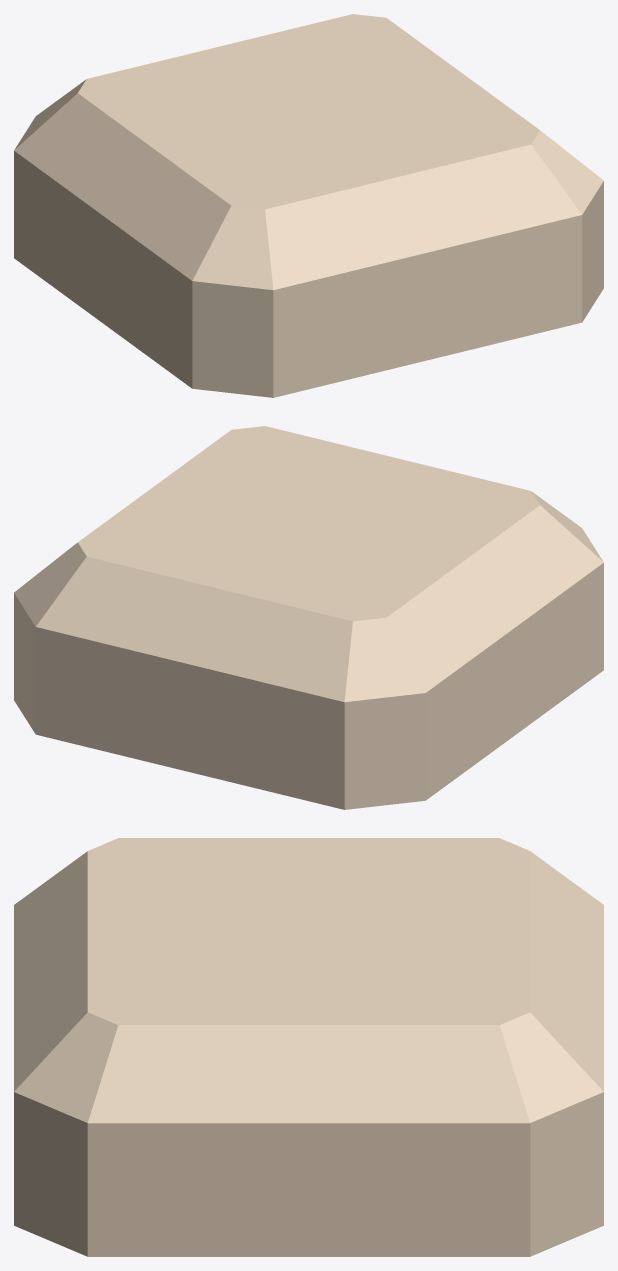
The model's file is Puzzle_Closed_Conduit_Terminator.glb.
The picture shows the model from 3 angles, top to bottom: view 1: azimuth 30°, elevation 25°; view 2: azimuth 150°, elevation 25°; view 3: azimuth 270°, elevation 25°; orthographic projection. The views are drawn at different scales.
Visible parts, largest first — view 1: Puzzle_Closed_Conduit_Terminator; view 2: Puzzle_Closed_Conduit_Terminator; view 3: Puzzle_Closed_Conduit_Terminator.
Boxes of the visible parts, x1=… form: Puzzle_Closed_Conduit_Terminator: x1=14, y1=14, x2=603, y2=397; Puzzle_Closed_Conduit_Terminator: x1=14, y1=426, x2=603, y2=809; Puzzle_Closed_Conduit_Terminator: x1=14, y1=838, x2=603, y2=1256.
Bounding box in the file's own units: 0.2 × 0.075 × 0.2.
